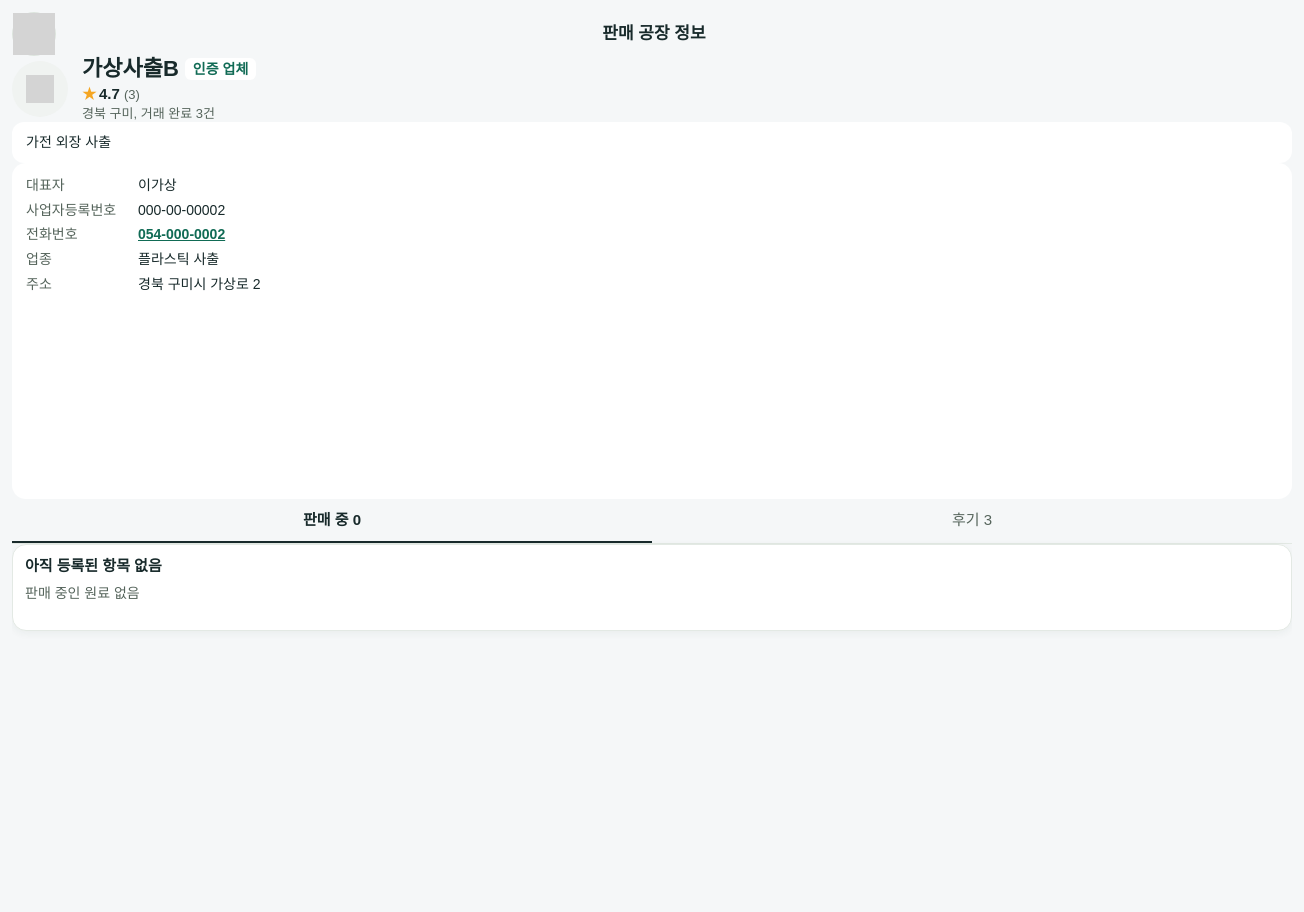
it: 판매 공장 정보: 대표, 사업자번호, 전화, 주소, 지도, 별점과 후기
Expected: the heading "가상사출B 인증 업체" is shown, [82,56,256,82]
Expected: the text "이가상" is shown, [138,177,177,193]
Click the tab "후기 3" at (972, 521), box [652,499,1292,543]
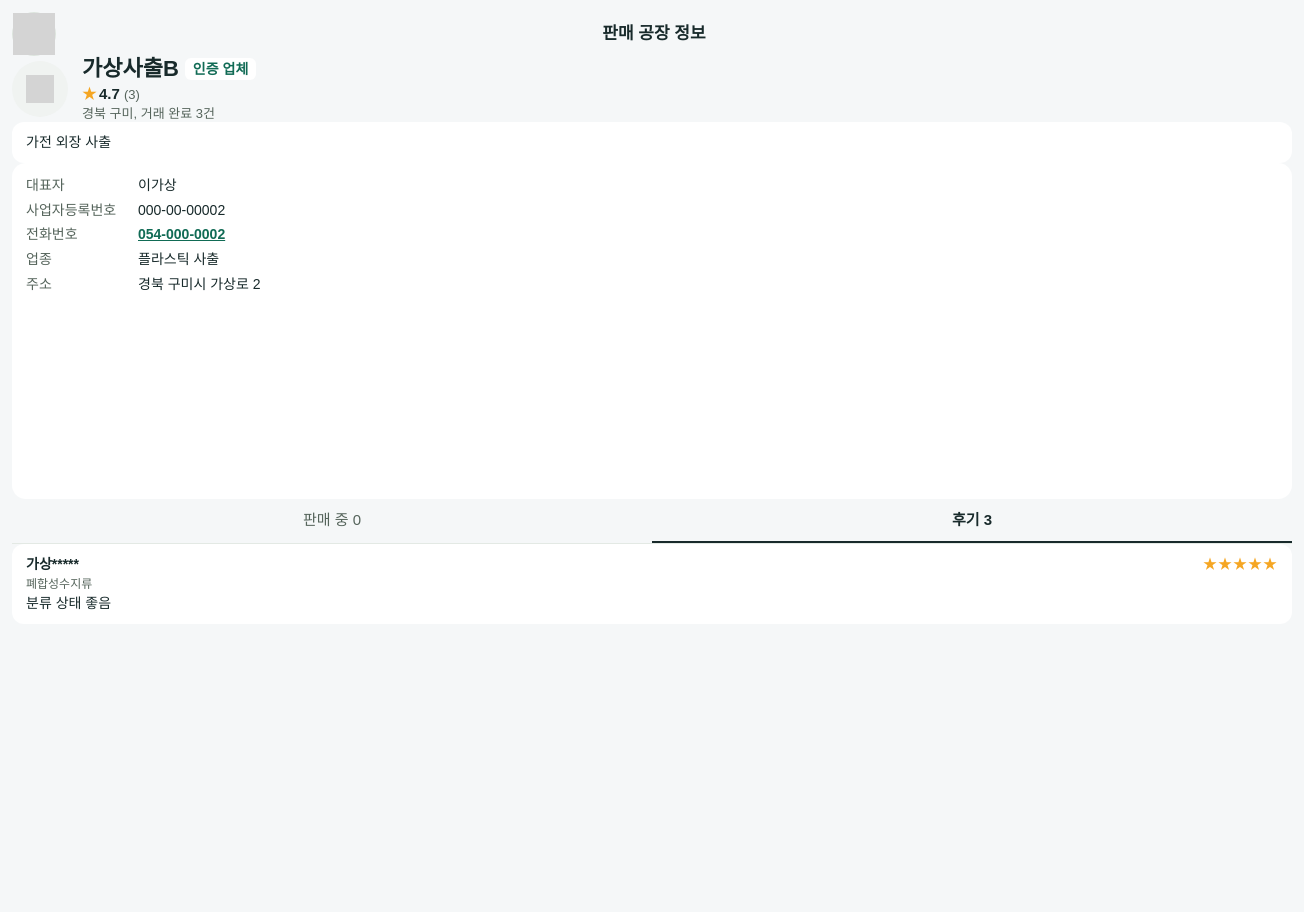
Result: the text "분류 상태 좋음" is shown at [26,595,111,611]
Result: the text "가상*****" is shown at [26,556,79,573]
